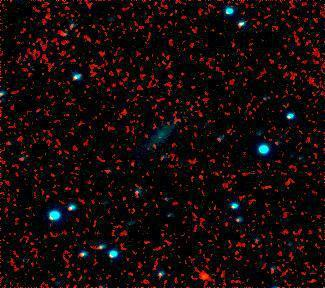star: (189, 263, 219, 288)
